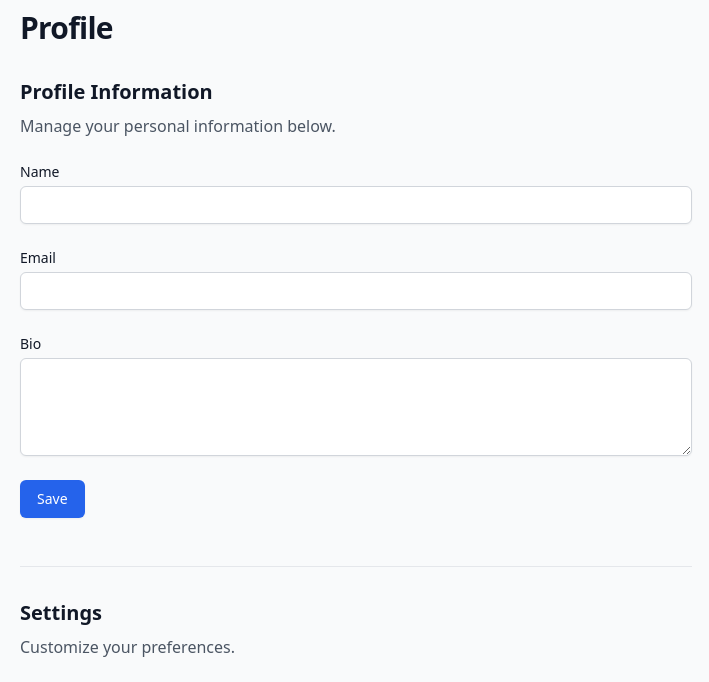
Profile Component › Validation - Error Messages › displays error message when name field is empty on submit
Click the button "Save".
click(52, 499)  # box [20,480,85,518]
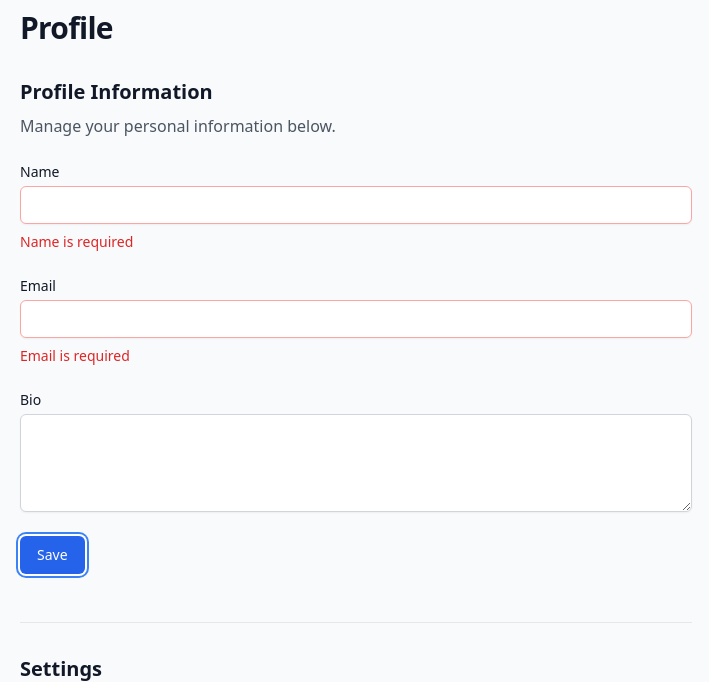
Expected: the text "Name is required" is shown, [20,232,133,251]
